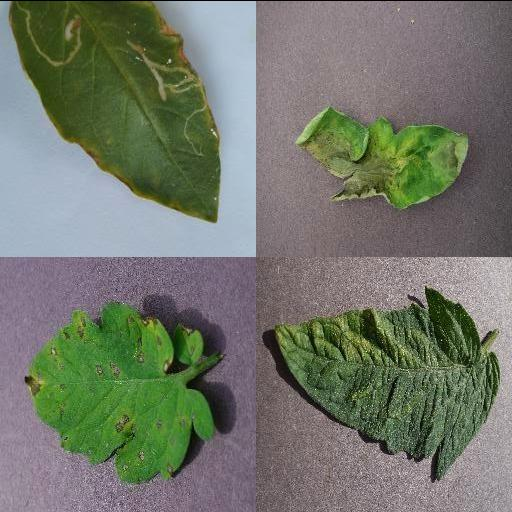Late Blight: (295, 104, 471, 210)
Leaf Miner: (7, 0, 219, 223)
Septoria: (22, 301, 214, 481)
Spider Mites: (274, 288, 500, 480)
